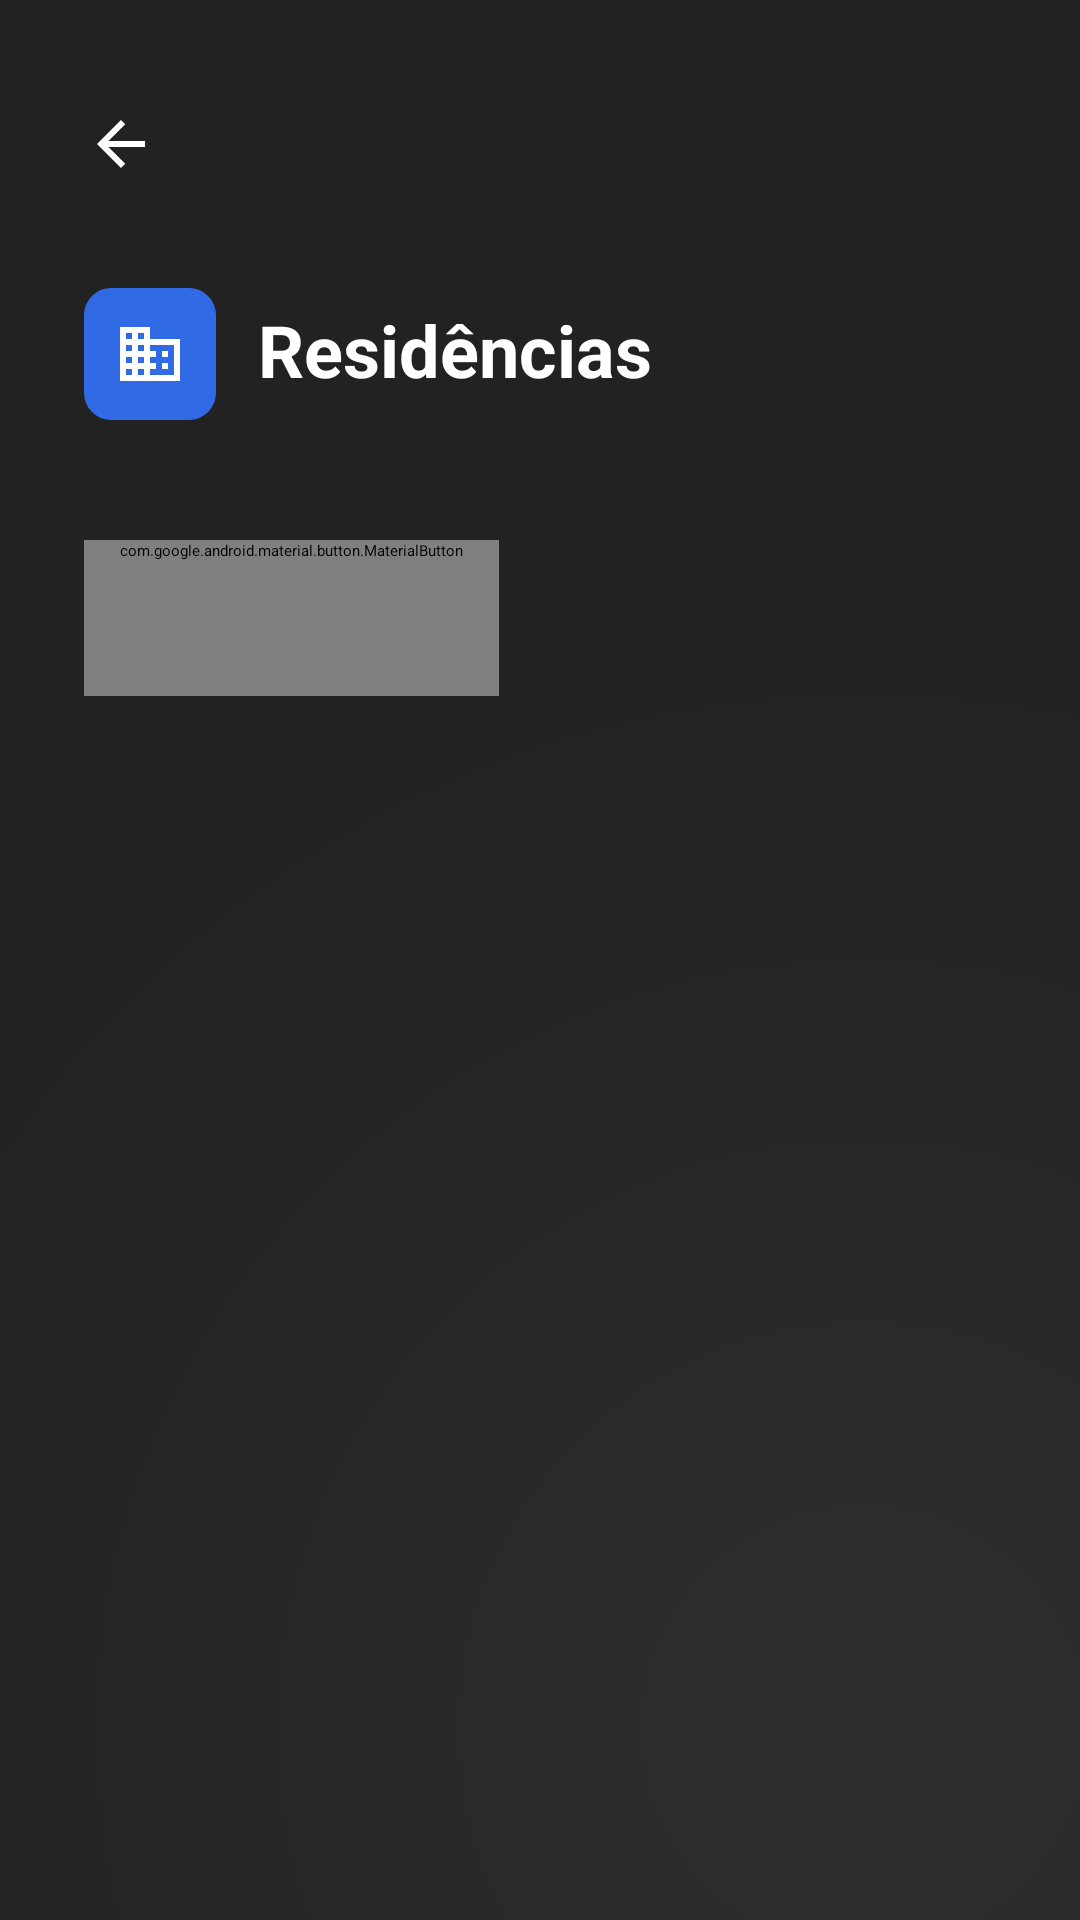

Named icons in this screenshot (1080×1920) and their centers, point (x, y):
profile units: point (150, 354)
Voltar: point (121, 144)
